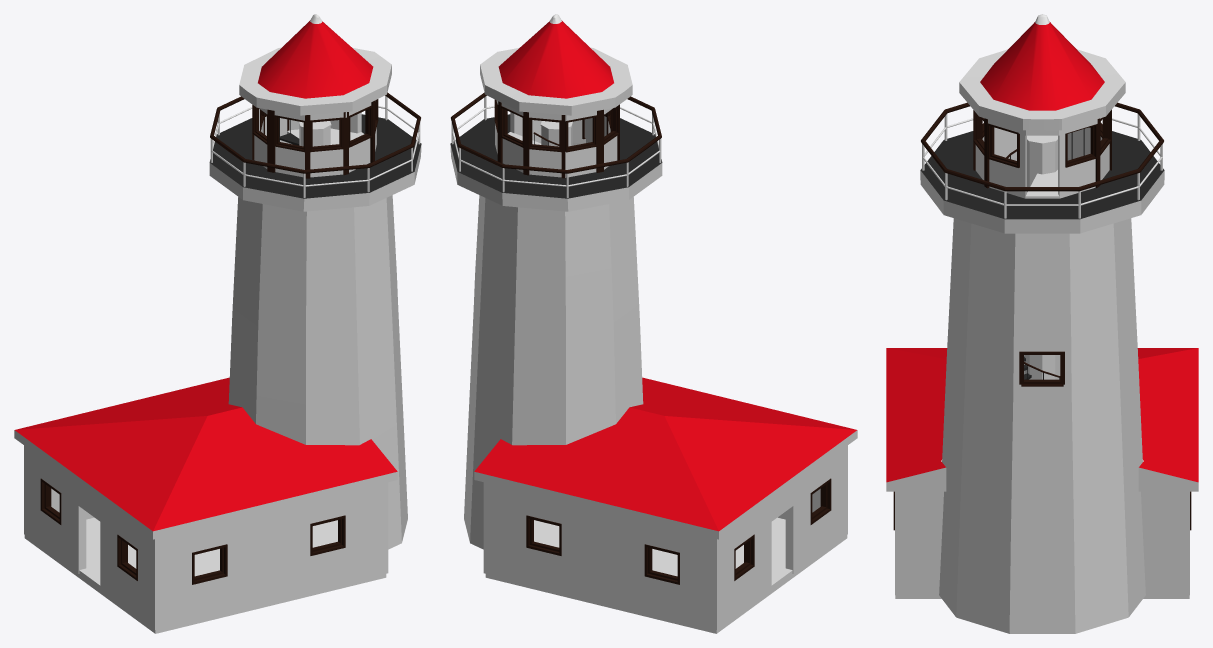
Rendered from Lighthouse.fbx.
The picture shows the model from 3 angles, left to right: view 1: azimuth 30°, elevation 25°; view 2: azimuth 150°, elevation 25°; view 3: azimuth 270°, elevation 25°; orthographic projection. The views are drawn at different scales.
Parts seen in each view (by area): view 1: Circle, Cube.001, Cube, Circle.004, Cube.006, Cube.007, Cube.004, Cube.003, Cube.008, Circle.001; view 2: Circle, Cube.001, Cube, Circle.004, Cube.006, Cube.007, Cube.009, Cube.010, Cube.002, Circle.001; view 3: Circle, Cube, Cube.001, Circle.004, Circle.001, Cube.006, Cube.007, Cube.005, Circle.002.
Boxes of the visible parts, box(x1,y1,x2,y2) form: Circle: box(209, 14, 421, 549); Cube.001: box(24, 445, 388, 633); Cube: box(14, 377, 397, 539); Circle.004: box(254, 109, 376, 177); Cube.006: box(252, 99, 378, 152); Cube.007: box(252, 100, 374, 178); Cube.004: box(310, 515, 345, 555); Cube.003: box(192, 544, 227, 584); Cube.008: box(40, 478, 61, 524); Circle.001: box(299, 121, 331, 146); Circle: box(450, 14, 662, 549); Cube.001: box(483, 445, 847, 633); Cube: box(474, 377, 857, 539); Circle.004: box(495, 112, 617, 177); Cube.006: box(494, 99, 619, 152); Cube.007: box(497, 101, 619, 178); Cube.009: box(644, 544, 679, 584); Cube.010: box(526, 515, 561, 555); Cube.002: box(810, 478, 831, 524); Circle.001: box(540, 121, 572, 146); Circle: box(920, 14, 1164, 633); Cube: box(886, 348, 1198, 491); Cube.001: box(895, 491, 1189, 598); Circle.004: box(975, 127, 1109, 198); Circle.001: box(1024, 135, 1060, 379); Cube.006: box(973, 110, 1111, 167); Cube.007: box(973, 109, 1111, 188); Cube.005: box(1019, 351, 1064, 386); Circle.002: box(1025, 170, 1059, 198).
Size of the model in its own units: 776 by 1194 by 580.
